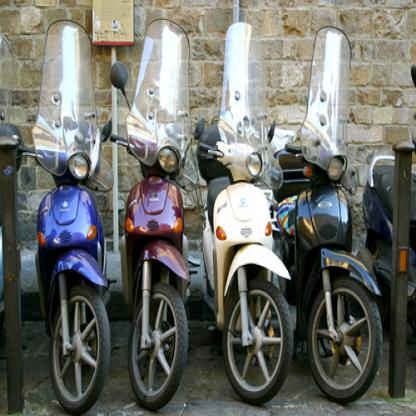motorbike: (273, 0, 383, 415), (187, 0, 291, 413), (19, 13, 117, 414), (115, 10, 202, 415), (364, 150, 415, 320)
